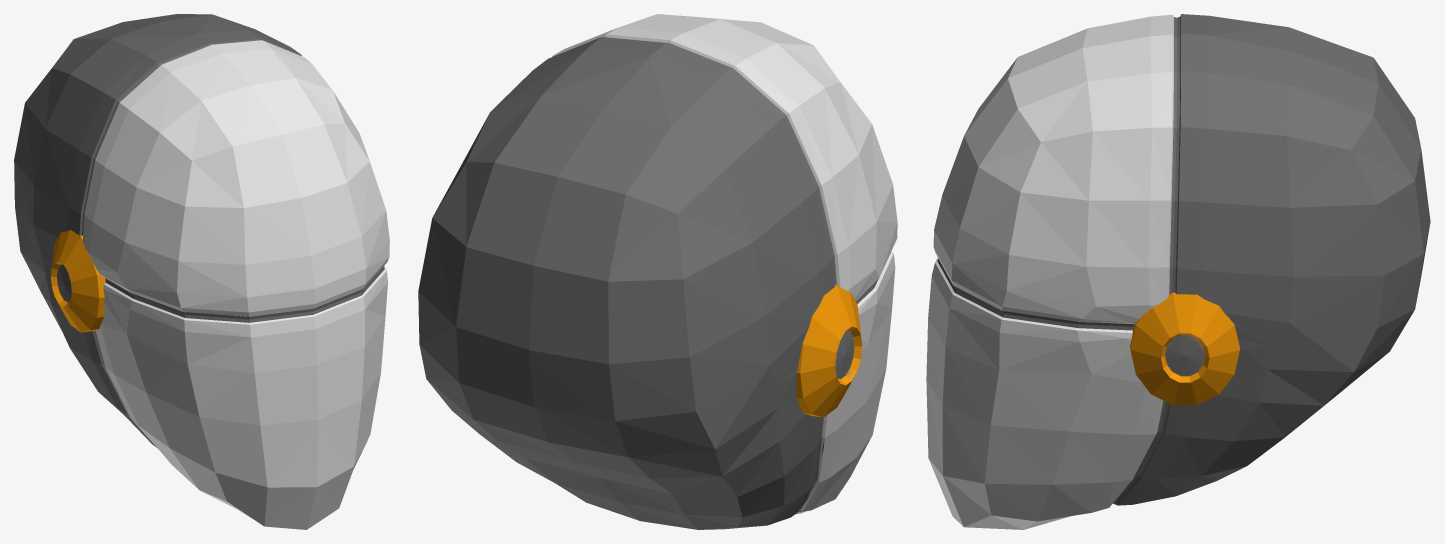
File: Head.obj
3 renders of one model, left to right at view 1: azimuth 30°, elevation 25°; view 2: azimuth 150°, elevation 25°; view 3: azimuth 270°, elevation 25°, orthographic. The views are drawn at different scales.
Parts seen in each view (by area): view 1: Head_Mesh.009; view 2: Head_Mesh.009; view 3: Head_Mesh.009.
Part boxes in pixels (box(x1,y1,x2,y2)): Head_Mesh.009: box(14, 14, 389, 529); Head_Mesh.009: box(418, 14, 897, 529); Head_Mesh.009: box(926, 14, 1430, 529).
Bounding box in the file's own units: 0.1573 × 0.2156 × 0.204.
1 material, 1 textured.
